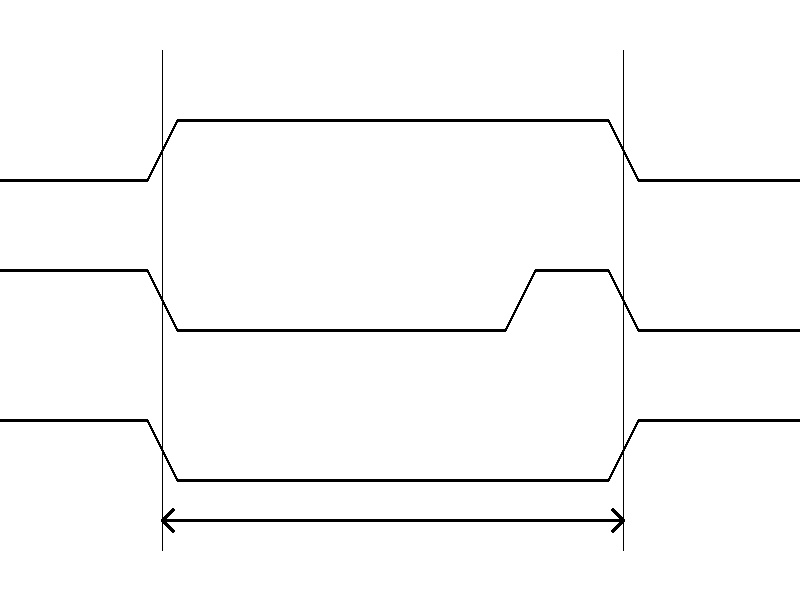double_arrow: (162, 505, 623, 535)
